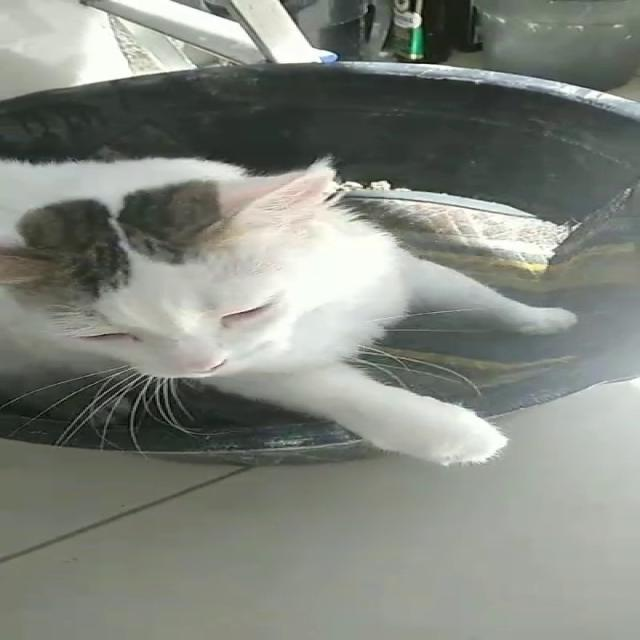Simba: (9, 147, 596, 480)
